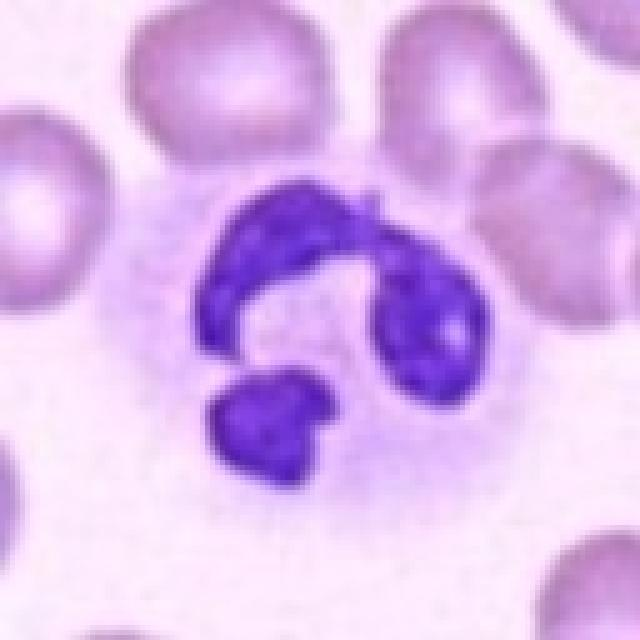neutro: (65, 115, 537, 522)
